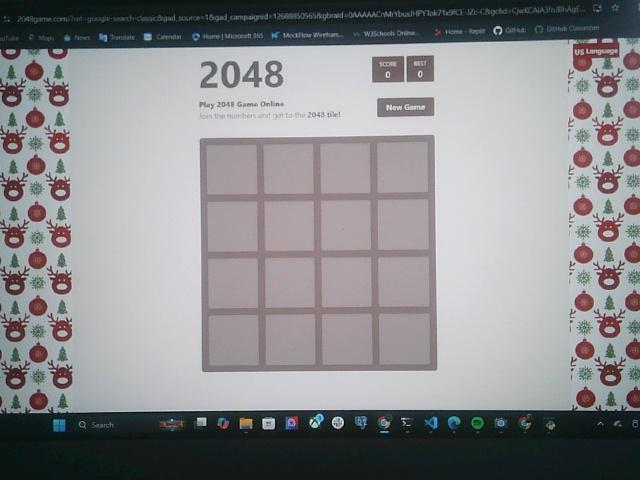best_score_box: (407, 56, 435, 83)
board: (199, 136, 438, 372)
button: (378, 98, 434, 117)
score_box: (373, 56, 403, 83)
